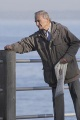male: (28, 11, 56, 35)
